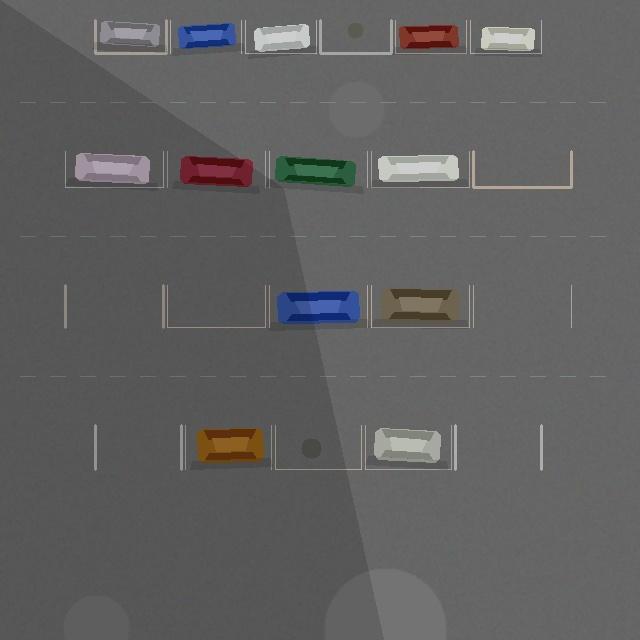space-empty: (65, 285, 163, 327), (167, 285, 265, 327), (473, 285, 571, 327), (95, 425, 181, 469), (275, 425, 361, 469), (455, 425, 541, 469), (473, 151, 571, 187), (320, 20, 391, 53)
space-occupied: (269, 285, 367, 327), (371, 285, 469, 327), (185, 425, 271, 469), (365, 425, 451, 469), (65, 151, 163, 187), (167, 151, 265, 187), (269, 151, 367, 187), (371, 151, 469, 187), (95, 20, 166, 53), (170, 20, 241, 53), (245, 20, 316, 53), (395, 20, 466, 53), (470, 20, 541, 53)
